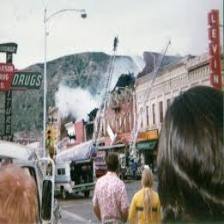smoke: (47, 54, 136, 116)
